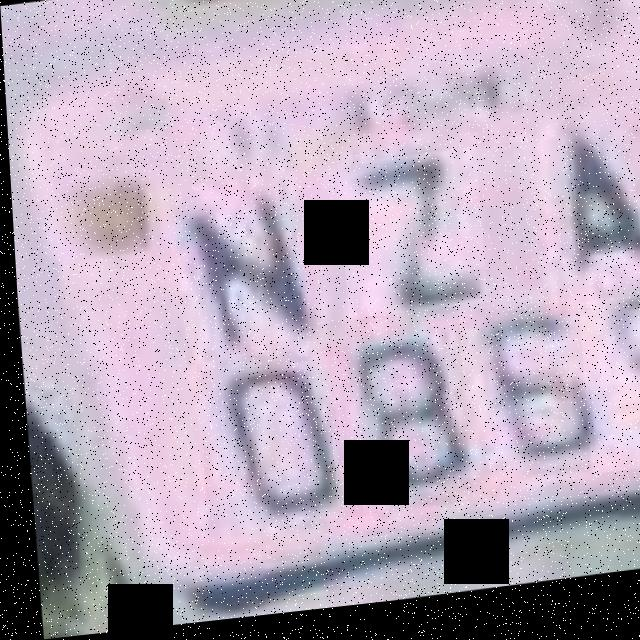0: (190, 340, 346, 535)
8: (321, 315, 466, 525)
9: (574, 307, 640, 487)
N: (158, 173, 323, 370)
Z: (334, 156, 485, 327)
